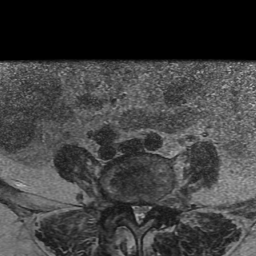CCS_normal: (136, 194, 142, 233)
LFS_severe_stenosis: (150, 197, 156, 218)
LLS_stenosis: (141, 196, 149, 220)
RFS_severe_stenosis: (123, 193, 130, 220)
RLS_stenosis: (129, 197, 137, 222)
